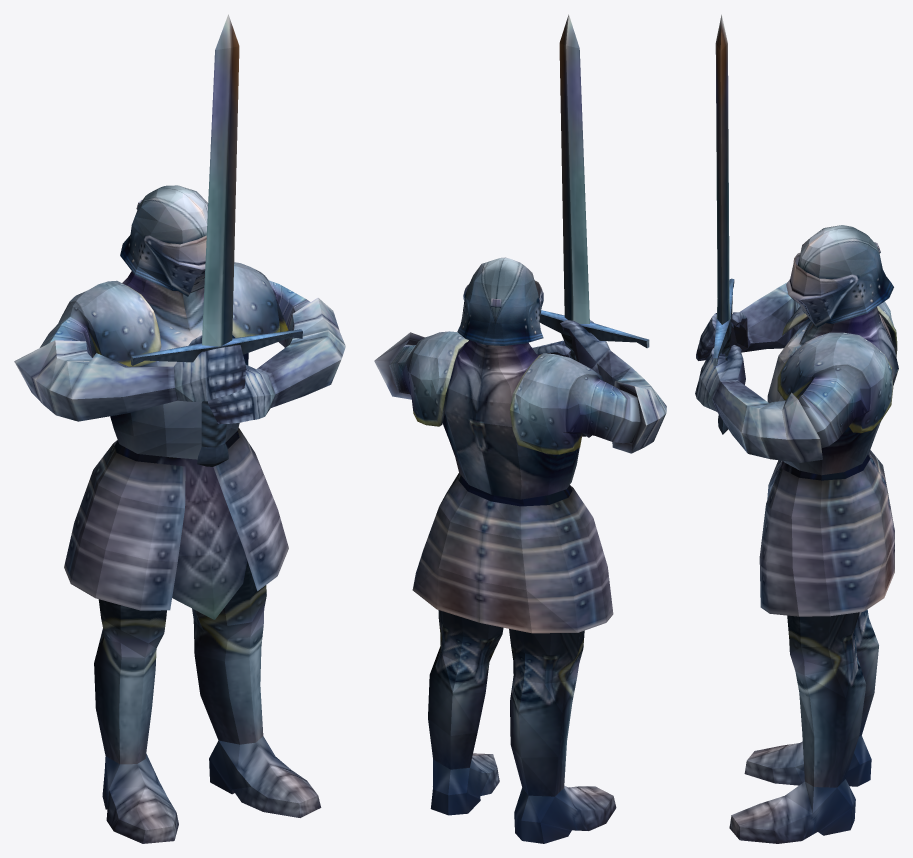
The model's file is Knight.fbx.
The picture shows the model from 3 angles, left to right: view 1: azimuth 30°, elevation 25°; view 2: azimuth 150°, elevation 25°; view 3: azimuth 270°, elevation 25°; orthographic projection. The views are drawn at different scales.
Visible parts, largest first — view 1: Limbs, Body, Sword; view 2: Limbs, Body, Sword; view 3: Limbs, Body, Sword.
Part boxes in pixels (<box>): Limbs: <box>14,262,345,843</box>; Body: <box>64,185,288,619</box>; Sword: <box>131,14,302,466</box>; Limbs: <box>374,320,666,843</box>; Body: <box>412,257,613,633</box>; Sword: <box>539,14,649,436</box>; Limbs: <box>695,282,897,843</box>; Body: <box>759,225,898,616</box>; Sword: <box>713,14,734,434</box>.
Bounding box in the file's own units: 786 × 2027 × 481.
Materials: 2 (2 with a texture image).
